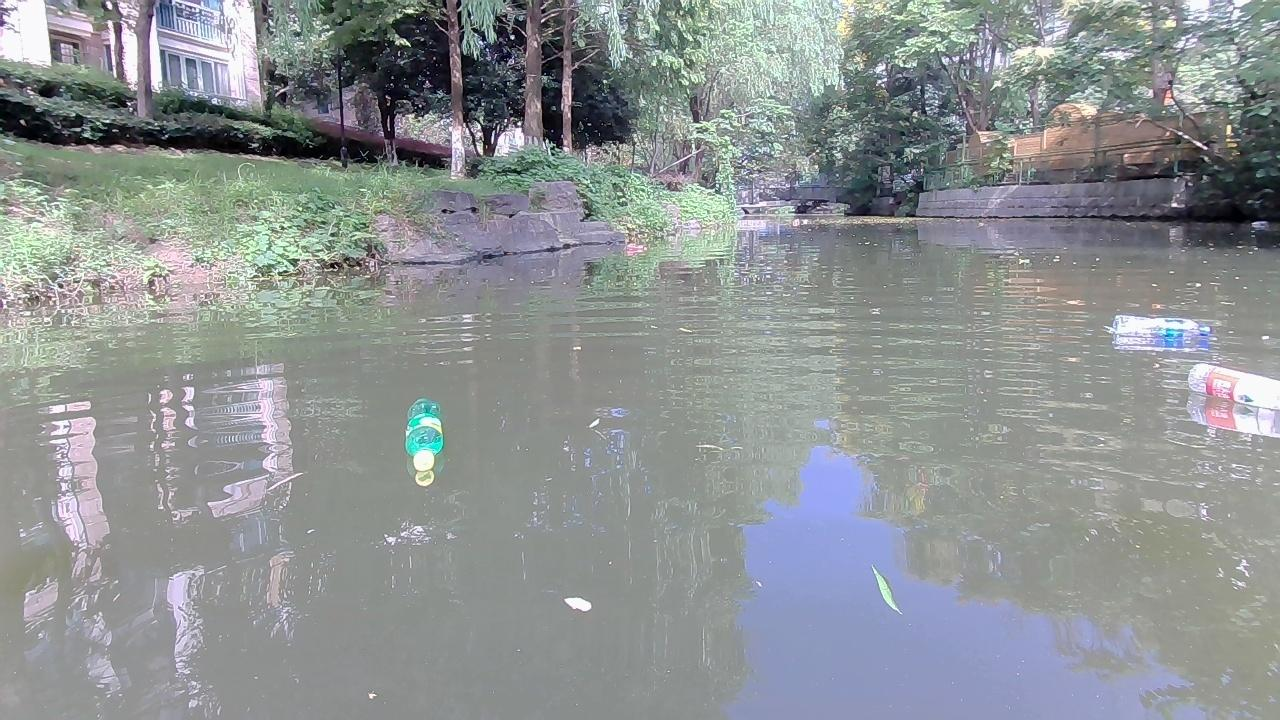bottle: (1185, 362, 1279, 402), (404, 395, 441, 471), (1107, 313, 1212, 336), (1251, 221, 1271, 230), (625, 241, 642, 250)
